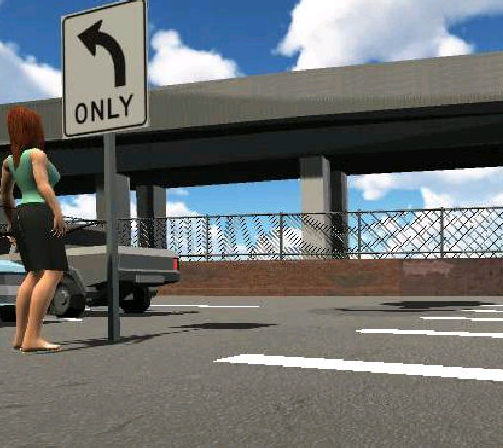arrow_left: (74, 19, 131, 91)
